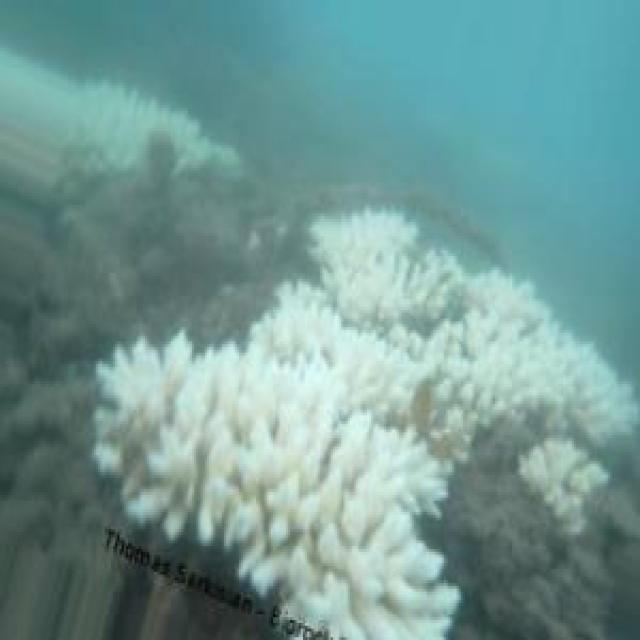bleached coral: (99, 285, 459, 638), (401, 250, 635, 461), (31, 63, 241, 181), (312, 208, 462, 338), (519, 438, 609, 534)
